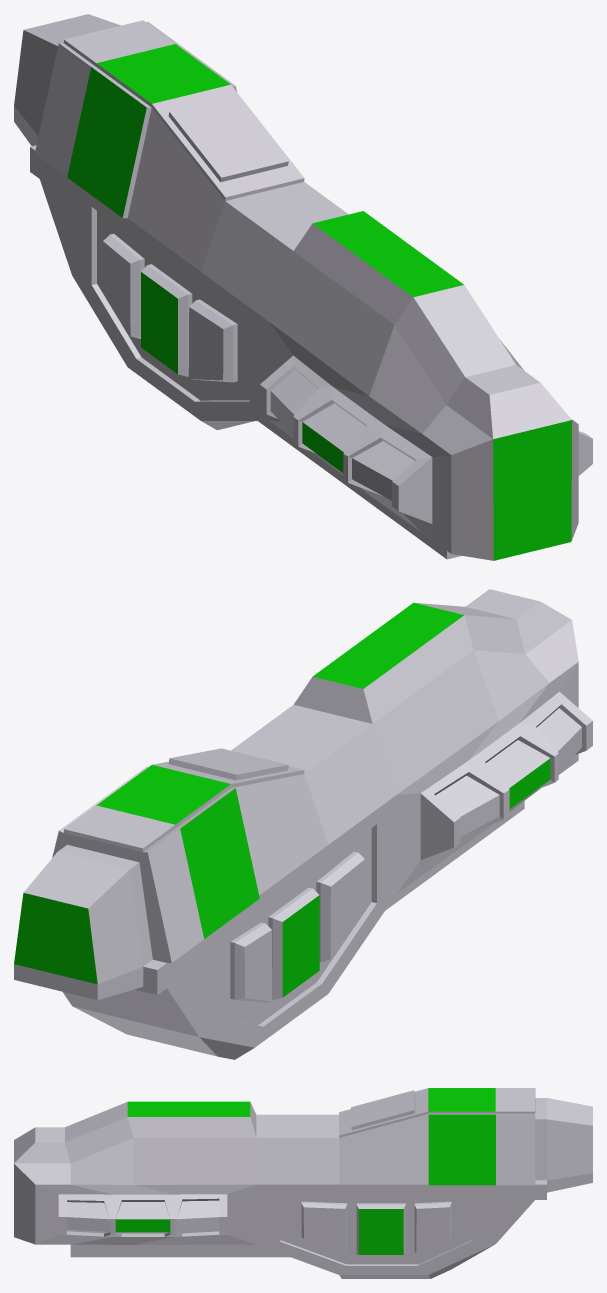
File: hull.knuckle.fbx
3 renders of one model, top to bottom at view 1: azimuth 30°, elevation 25°; view 2: azimuth 150°, elevation 25°; view 3: azimuth 270°, elevation 25°, orthographic. The views are drawn at different scales.
Parts seen in each view (by area): view 1: hull.knuckle; view 2: hull.knuckle; view 3: hull.knuckle.
Boxes of the visible parts, bbox=[...] form: hull.knuckle: bbox=[14, 14, 592, 560]; hull.knuckle: bbox=[14, 589, 592, 1059]; hull.knuckle: bbox=[14, 1088, 592, 1278].
Bounding box in the file's own units: 2.45 × 3.03 × 9.59.
